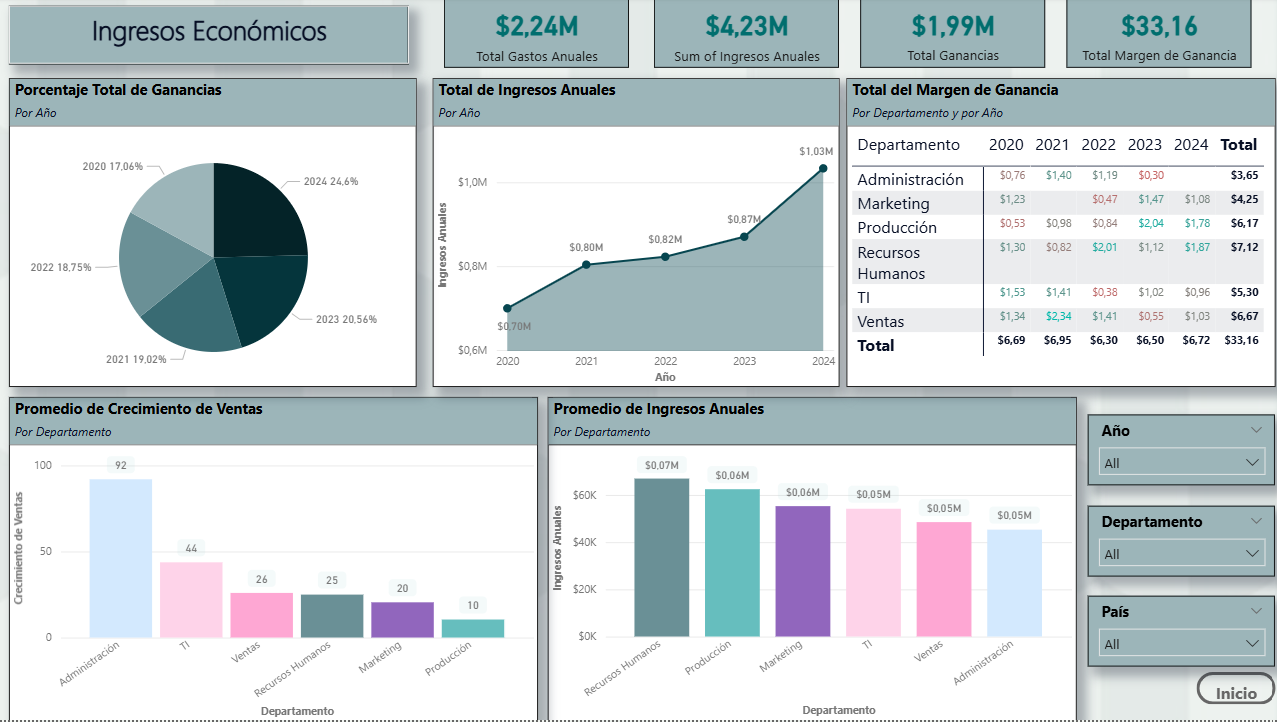

This screenshot's page, from the dashboard's own definition file:
{"tool":"powerbi","page":{"name":"Ingresos","canvas":[1280,720],"ordinal":1},"visuals":[{"type":"columnChart","title":"Promedio de Ingresos Anuales","fields":{"Category":["Sheet1.Departamento"],"Y":["Avg(Sheet1.Ingresos Anuales)"]},"box":[551.1,398.1,526,322.2],"z":0},{"type":"textbox","box":[15.4,9.2,397.5,58.4],"z":1000},{"type":"columnChart","title":"Promedio de Crecimiento de Ventas","fields":{"Category":["Sheet1.Departamento"],"Y":["Avg(Sheet1 (2).Crecimiento Ventas (%))"]},"box":[14.9,398.1,526.2,322.2],"z":2000},{"type":"slicer","fields":{"Values":["Sheet1.Año"]},"box":[1088,416,187.4,70.6],"z":2000,"group":"g1"},{"type":"lineChart","title":"Total de Ingresos Anuales","fields":{"Category":["Sheet1.Año"],"Y":["Sum(Sheet1.Ingresos Anuales)"]},"box":[436.2,80.9,405,307.2],"z":3000},{"type":"pieChart","title":"Porcentaje Total de Ganancias","fields":{"Y":["Sum(Sheet1.Ganancias)"],"Category":["Sheet1.Año"]},"box":[15.2,80.9,405.7,307.2],"z":4000},{"type":"pivotTable","title":"Total del Margen de Ganancia","fields":{"Values":["Sum(Sheet1.Margen de Ganancia)"],"Rows":["Sheet1.Departamento"],"Columns":["Sheet1.Año"]},"box":[848.4,80.9,427.9,307.3],"z":5000},{"type":"actionButton","box":[1196.7,671.7,79.6,32.3],"z":6000},{"type":"group","id":"g1","title":"Grupo 1","box":[1088,416,192,256],"z":7000},{"type":"slicer","fields":{"Values":["Sheet1.Departamento"]},"box":[1088,506.3,187.4,70.6],"z":7000,"group":"g1"},{"type":"group","id":"g2","title":"Grupo 2","box":[448,0,804.2,70.6],"z":8000},{"type":"card","fields":{"Values":["Sum(Sheet1.Ganancias)"]},"box":[862.5,0,184,70],"z":8000,"group":"g2"},{"type":"card","fields":{"Values":["Sum(Sheet1.Margen de Ganancia)"]},"box":[1067.9,0.6,184.3,70],"z":9000,"group":"g2"},{"type":"card","fields":{"Values":["Sum(Sheet1.Ingresos Anuales)"]},"box":[657.1,0,184,70.6],"z":10000,"group":"g2"},{"type":"card","fields":{"Values":["Sum(Sheet1.Gastos Anuales)"]},"box":[448,0,184,70.6],"z":11000,"group":"g2"},{"type":"slicer","fields":{"Values":["Sheet1 (2).País"]},"box":[1088,596.6,187.4,70.6],"z":13000,"group":"g1"}]}

Visuals, with their boxes in screenshot pixels (x1, y1, x2, y2), scaled from the page's 1280x720 canvas onto the 1277x722 screenshot:
"Promedio de Ingresos Anuales" columnChart: 550, 399, 1075, 721
textbox: 15, 9, 412, 68
"Promedio de Crecimiento de Ventas" columnChart: 15, 399, 540, 721
slicer - Sheet1.Año: 1085, 417, 1272, 488
"Total de Ingresos Anuales" lineChart: 435, 81, 839, 389
"Porcentaje Total de Ganancias" pieChart: 15, 81, 420, 389
"Total del Margen de Ganancia" pivotTable: 846, 81, 1273, 389
actionButton: 1194, 674, 1273, 706
"Grupo 1" group: 1085, 417, 1276, 674
slicer - Sheet1.Departamento: 1085, 508, 1272, 579
"Grupo 2" group: 447, 0, 1249, 71
card - Sum(Sheet1.Ganancias): 860, 0, 1044, 70
card - Sum(Sheet1.Margen de Ganancia): 1065, 1, 1249, 71
card - Sum(Sheet1.Ingresos Anuales): 656, 0, 839, 71
card - Sum(Sheet1.Gastos Anuales): 447, 0, 631, 71
slicer - Sheet1 (2).País: 1085, 598, 1272, 669
